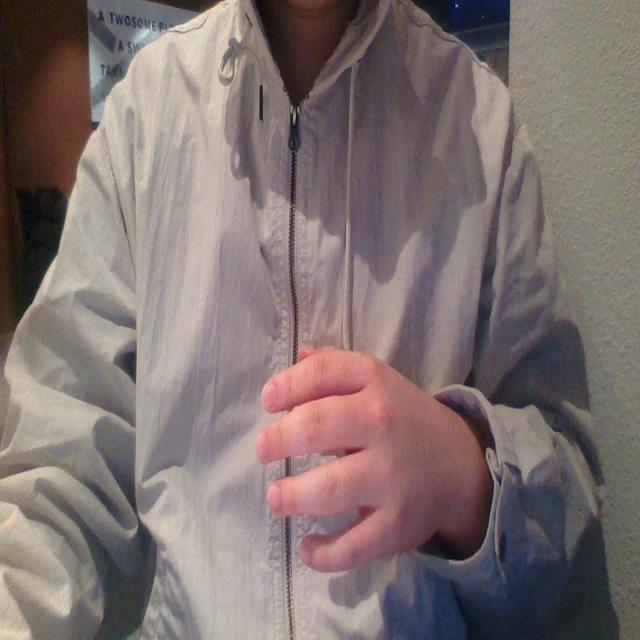hand: (257, 336, 457, 586)
